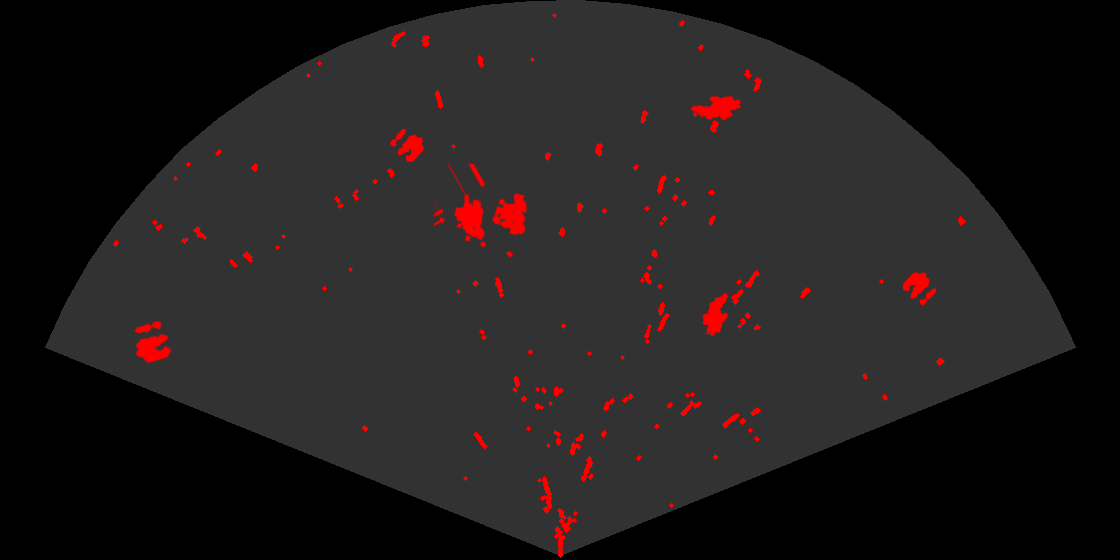AUV: (689, 94, 743, 122), (701, 291, 730, 337)
ball: (133, 319, 173, 365), (388, 127, 426, 164), (901, 271, 938, 307)
cage: (434, 164, 529, 249)
